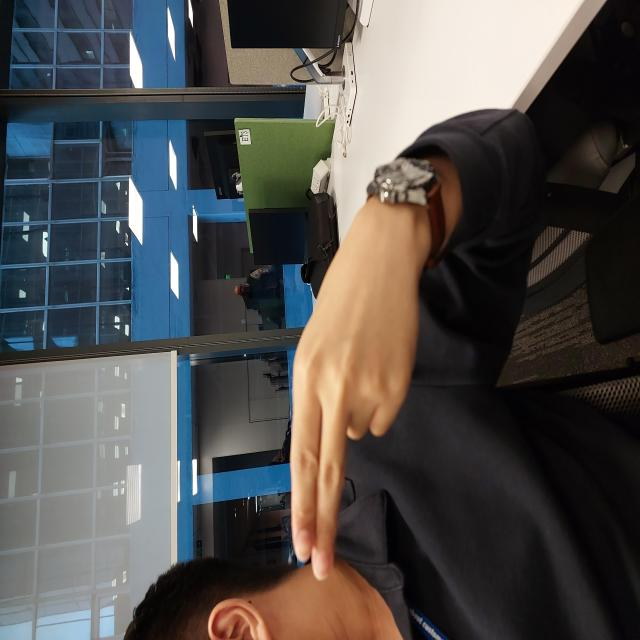H: (57, 288, 383, 418)
